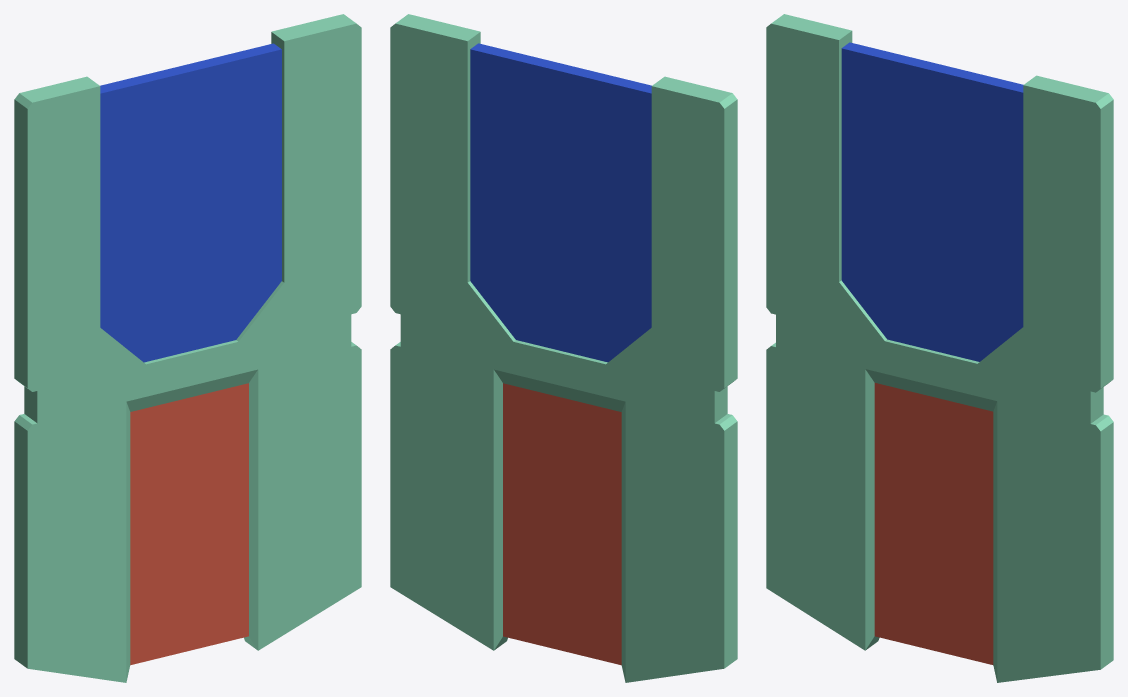
File: Keycard_4.fbx
The picture shows the model from 3 angles, left to right: view 1: azimuth 30°, elevation 25°; view 2: azimuth 150°, elevation 25°; view 3: azimuth 330°, elevation 25°; orthographic projection.
Visible parts, largest first — view 1: Keycard_4; view 2: Keycard_4; view 3: Keycard_4.
Part boxes in pixels (box(x1,y1,x2,y2)): Keycard_4: box(14, 14, 361, 682); Keycard_4: box(390, 14, 737, 682); Keycard_4: box(766, 14, 1113, 682).
Bounding box in the file's own units: 2.84 × 4.89 × 0.1922.
